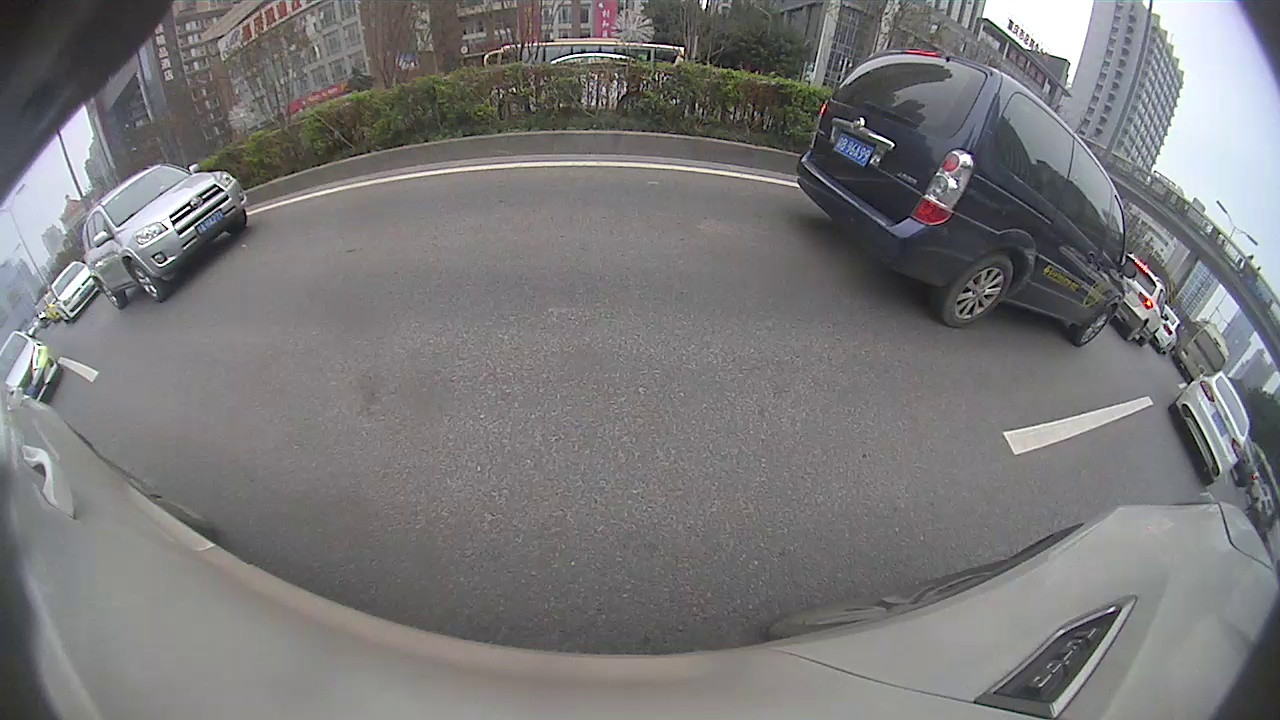car: (795, 50, 1139, 349), (80, 163, 249, 310), (1168, 372, 1252, 487)
front: (1071, 305, 1116, 349), (126, 258, 163, 300)
rear: (943, 253, 1013, 329)
